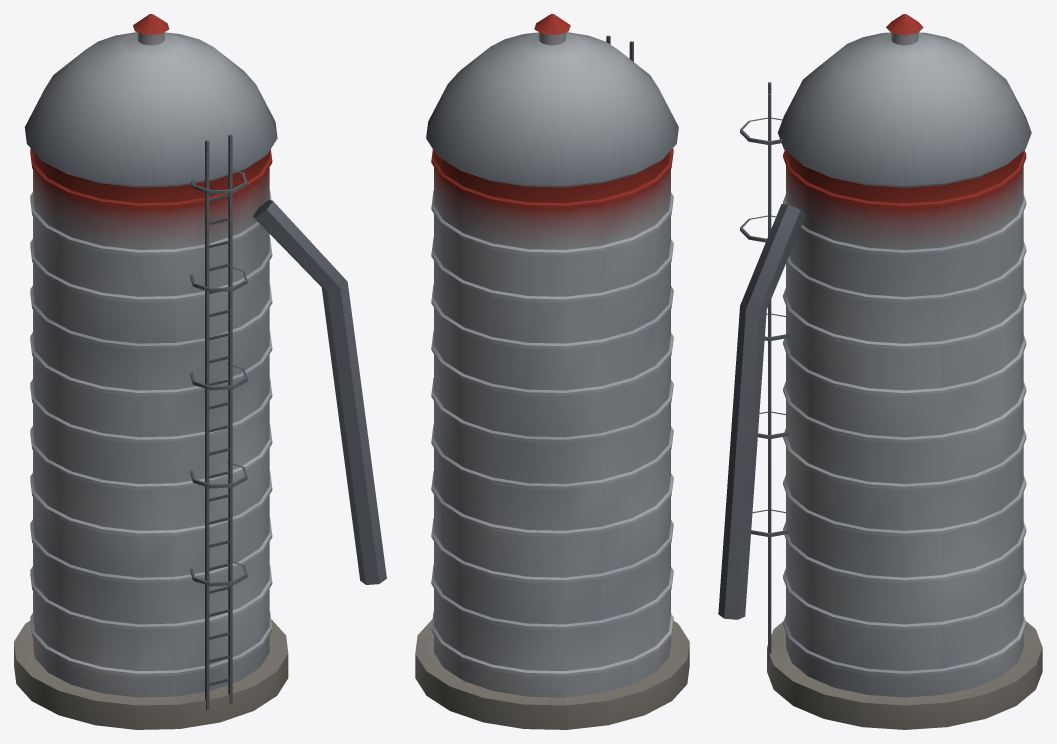
Rendered from prop.silo.glb.
3 renders of one model, left to right at view 1: azimuth 30°, elevation 25°; view 2: azimuth 150°, elevation 25°; view 3: azimuth 270°, elevation 25°, orthographic.
Visible parts, largest first — view 1: silo; view 2: silo; view 3: silo.
Part boxes in pixels (x1,y1,x2,y2): silo: [14, 14, 386, 729]; silo: [415, 14, 689, 729]; silo: [718, 14, 1042, 729].
Size of the model in its own units: 5.67 by 13.4 by 6.
